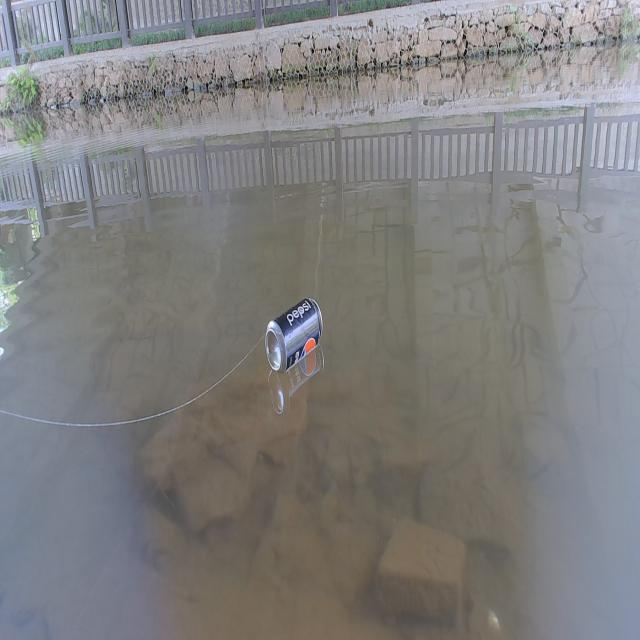garbage: (264, 296, 324, 374)
